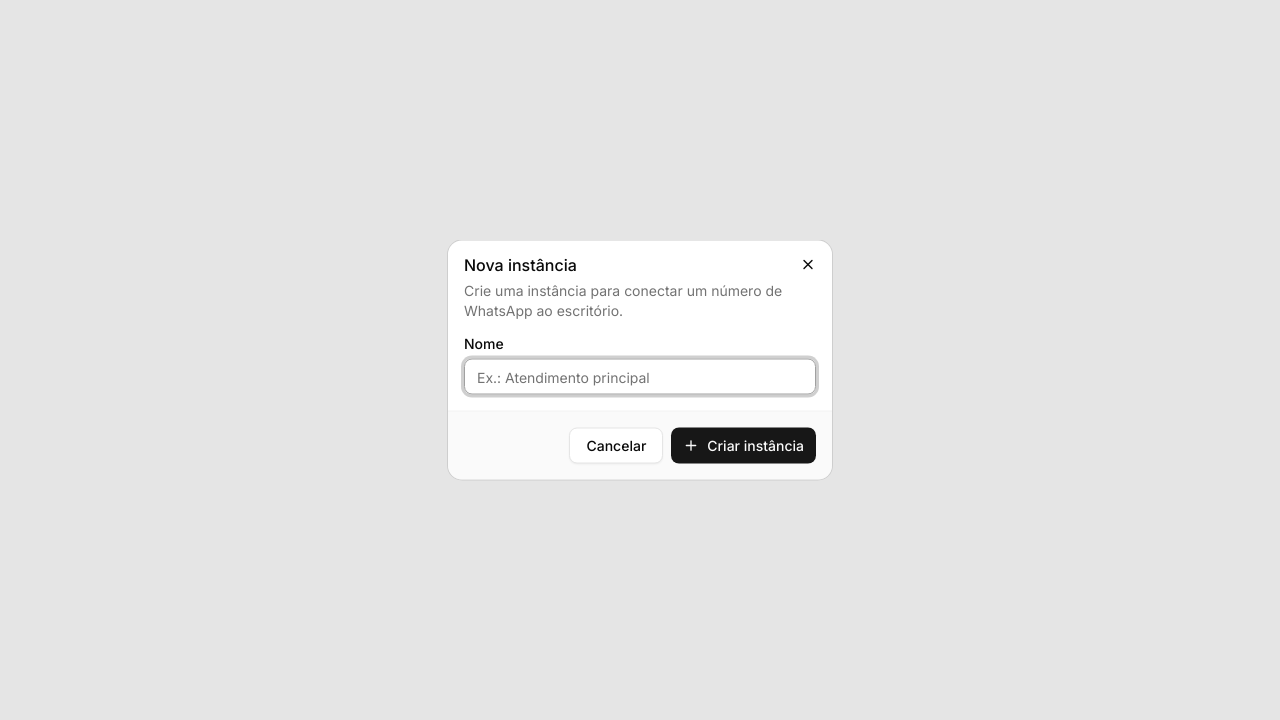
Scenario: NovaInstanciaDialog › mostra a mensagem do servidor quando o nome já existe
This screenshot has width=1280, height=720.
Type "Atendimento" into the field labelled "Nome" at [640, 376], box 464,358 -> 816,394
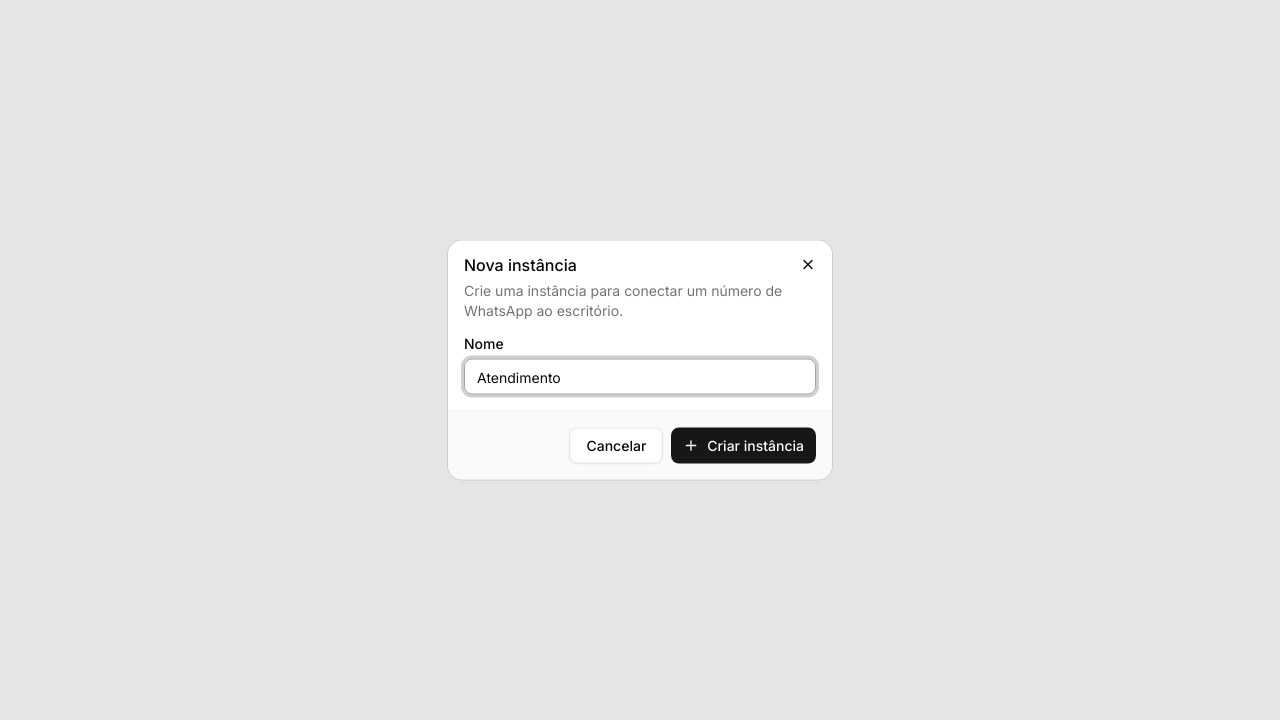
Click the button "Criar instância" at [744, 446], box 671,428 -> 816,464
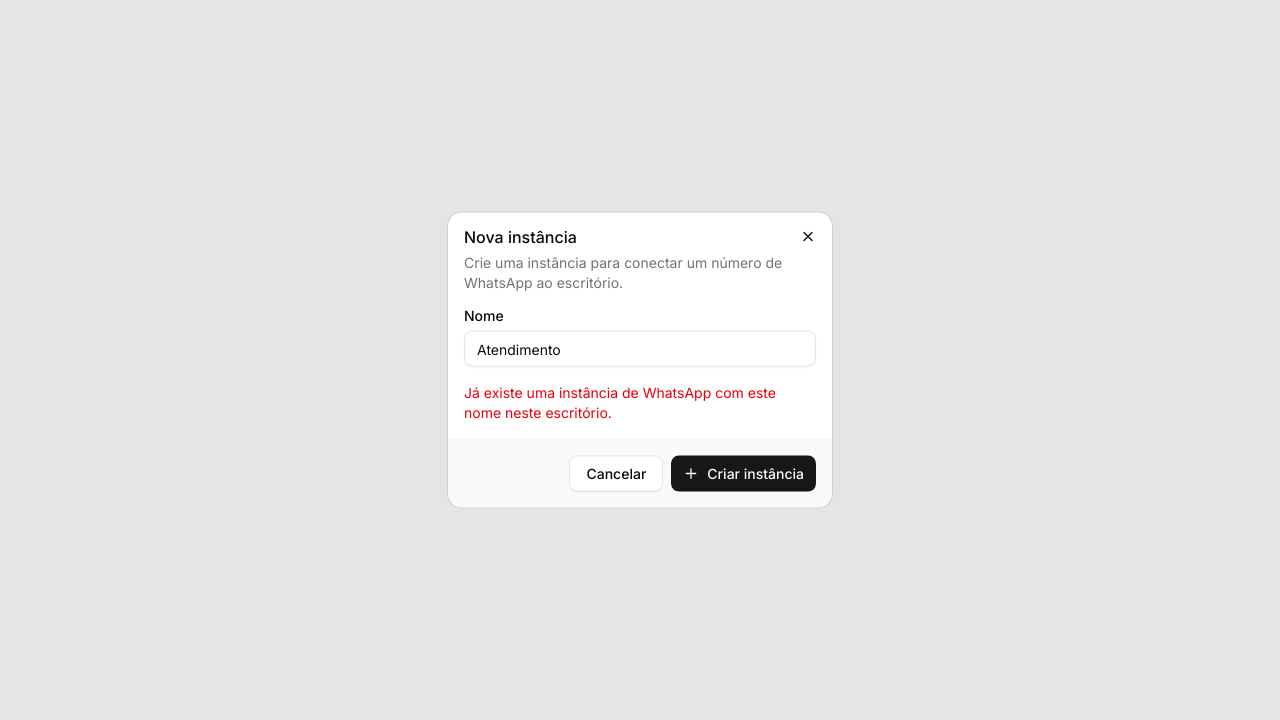
Now the message reads "Já existe uma instância de WhatsApp com este nome neste escritório.", box 464,384 -> 776,420
